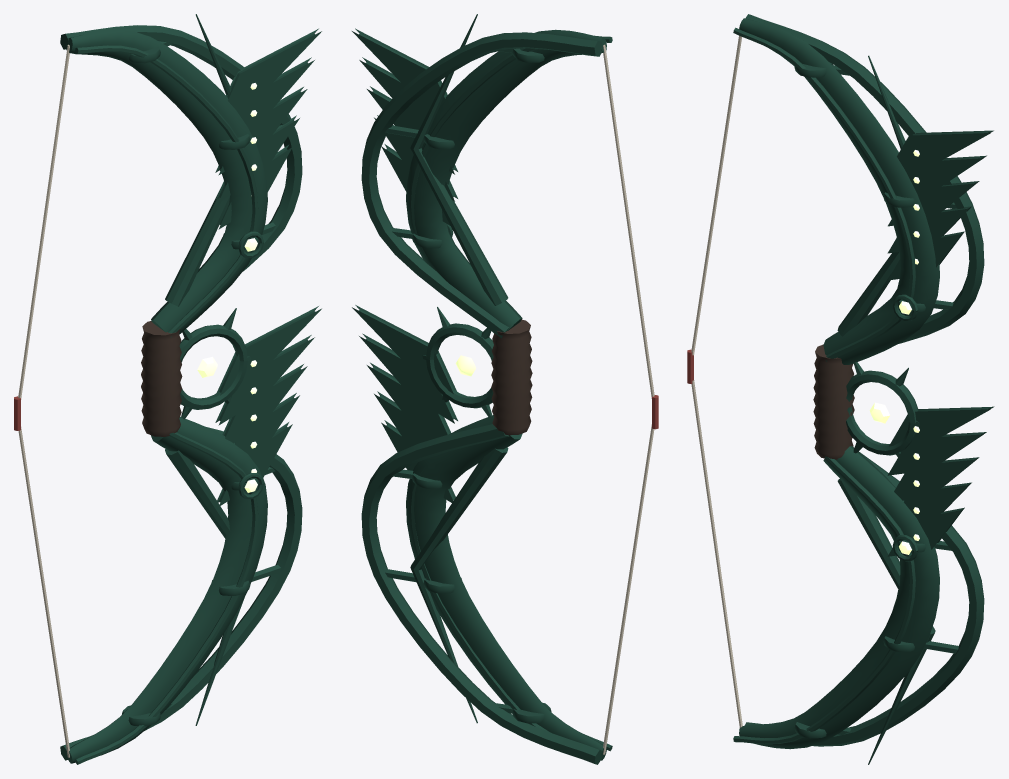
Rendered from boss_grievance_of_the_fairy_main_weapon.glb.
The picture shows the model from 3 angles, left to right: view 1: azimuth 30°, elevation 25°; view 2: azimuth 150°, elevation 25°; view 3: azimuth 330°, elevation 25°; orthographic projection.
Parts seen in each view (by area): view 1: boss_grievance_of_the_fairy_main_weapon; view 2: boss_grievance_of_the_fairy_main_weapon; view 3: boss_grievance_of_the_fairy_main_weapon.
Part boxes in pixels (<box>): boss_grievance_of_the_fairy_main_weapon: <box>14,14,321,764</box>; boss_grievance_of_the_fairy_main_weapon: <box>352,14,658,764</box>; boss_grievance_of_the_fairy_main_weapon: <box>687,14,994,764</box>.
Size of the model in its own units: 0.5331 by 1.21 by 0.0643.
